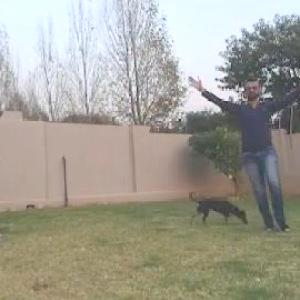takeoff: (181, 65, 299, 245)
